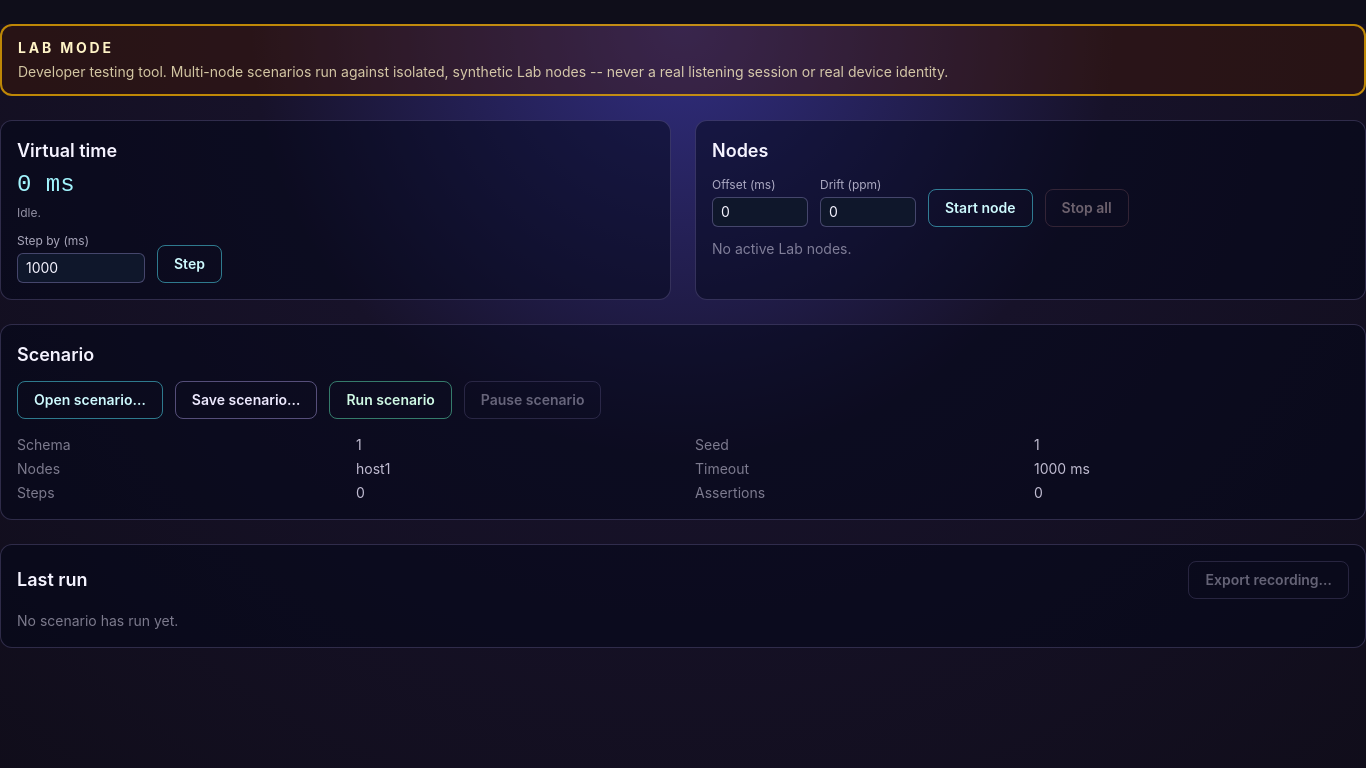
LabScreen › shows only the most recent run, never accumulating run history
Click the button "Run scenario": (391, 400) x1=330 y1=381 x2=452 y2=419
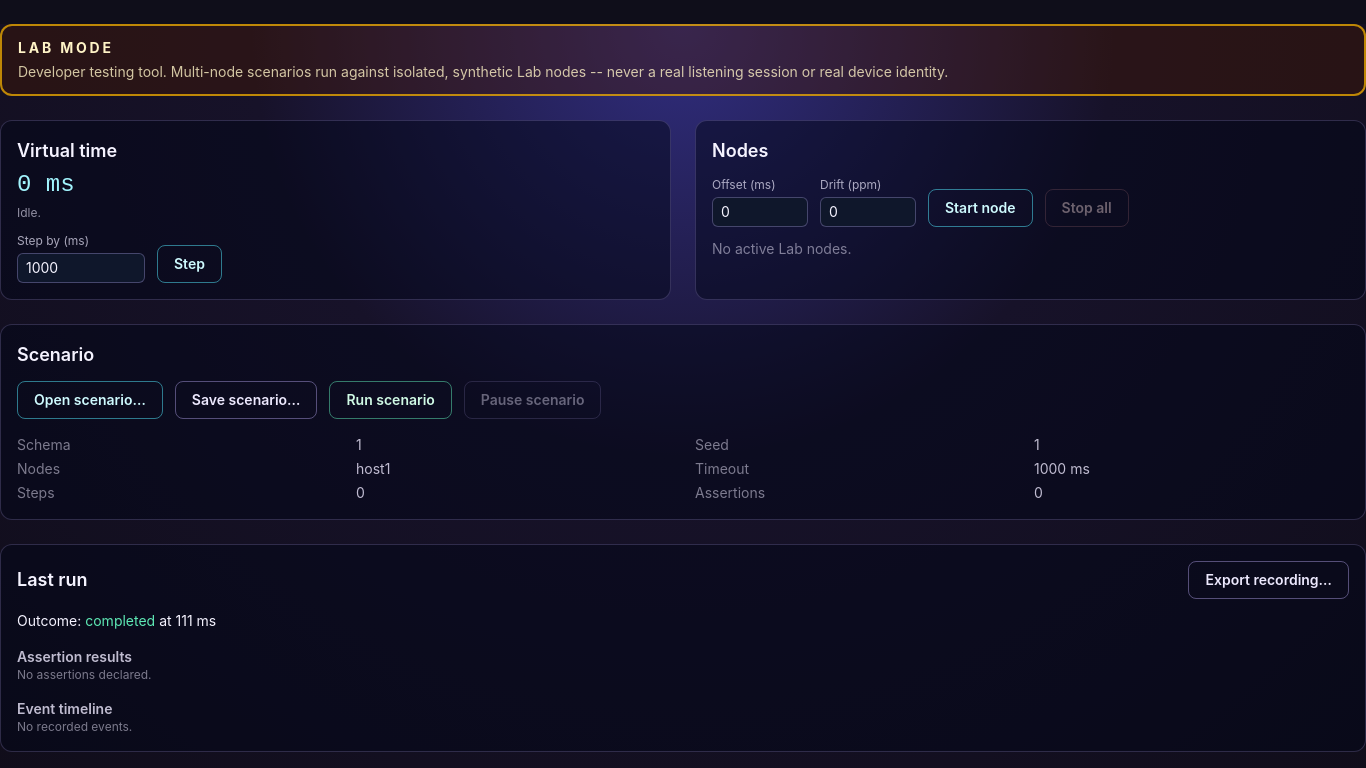
Now the element with test id "lab-last-run-outcome" shows "at 111 ms", box x1=17 y1=612 x2=216 y2=629
Click the button "Run scenario": (391, 400) x1=330 y1=381 x2=452 y2=419
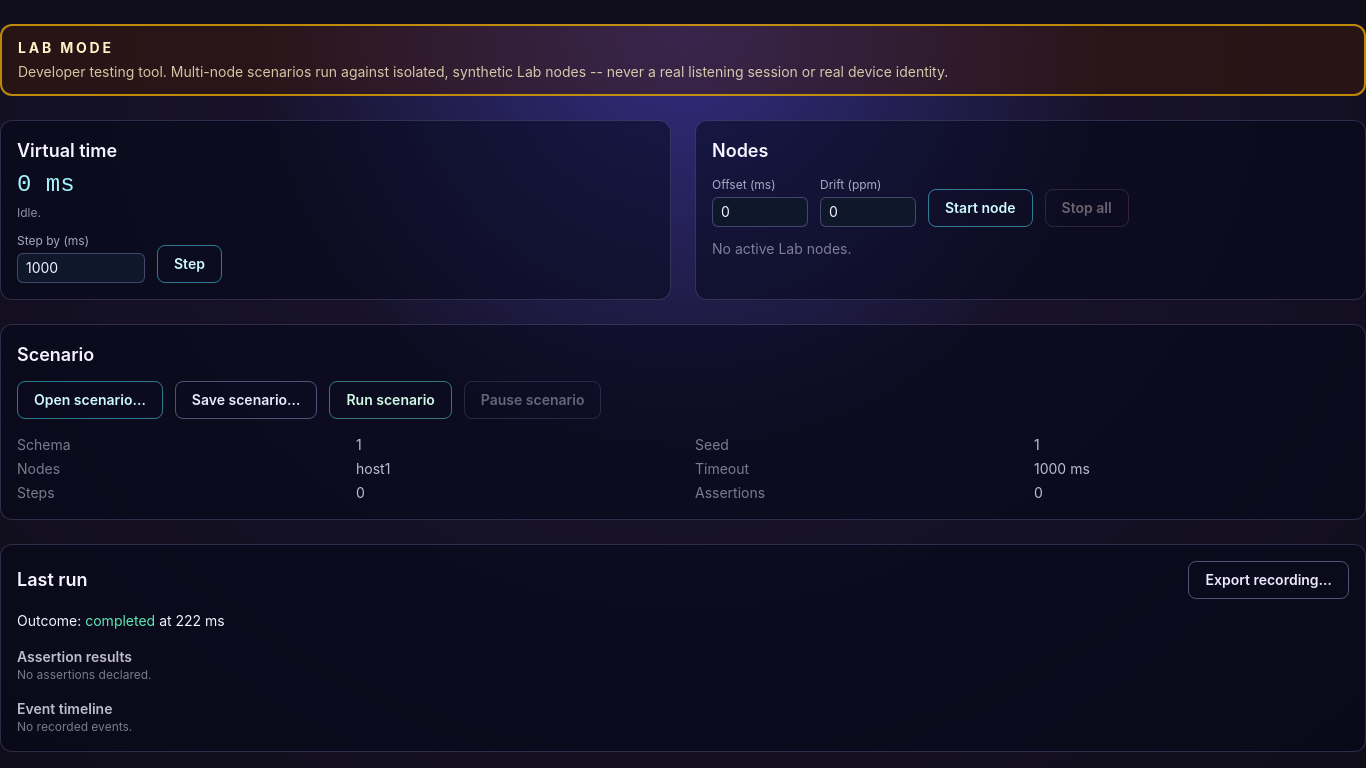
Now the number of elements with test id "lab-last-run-outcome" is 1, box x1=17 y1=612 x2=225 y2=629
Now the element with test id "lab-last-run-outcome" shows "at 222 ms", box x1=17 y1=612 x2=225 y2=629
